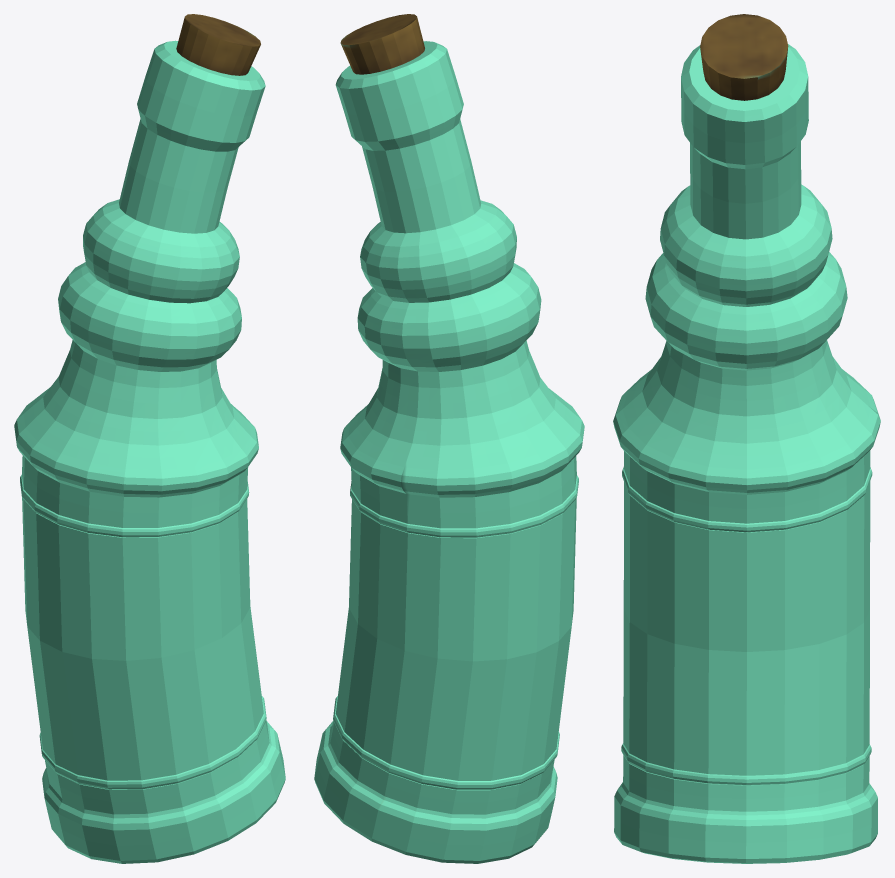
The model's file is bend_medium_0.obj.
3 views of the same model, side by side, from view 1: azimuth 30°, elevation 25°; view 2: azimuth 150°, elevation 25°; view 3: azimuth 270°, elevation 25° (orthographic). The views are drawn at different scales.
Parts seen in each view (by area): view 1: model; view 2: model; view 3: model.
Boxes of the visible parts, x1,y1,x2,y2 form: model: [14, 14, 285, 863]; model: [314, 14, 584, 863]; model: [613, 14, 880, 863].
Size of the model in its own units: 0.0811 by 0.2578 by 0.0724.
Materials: 1 (1 with a texture image).
